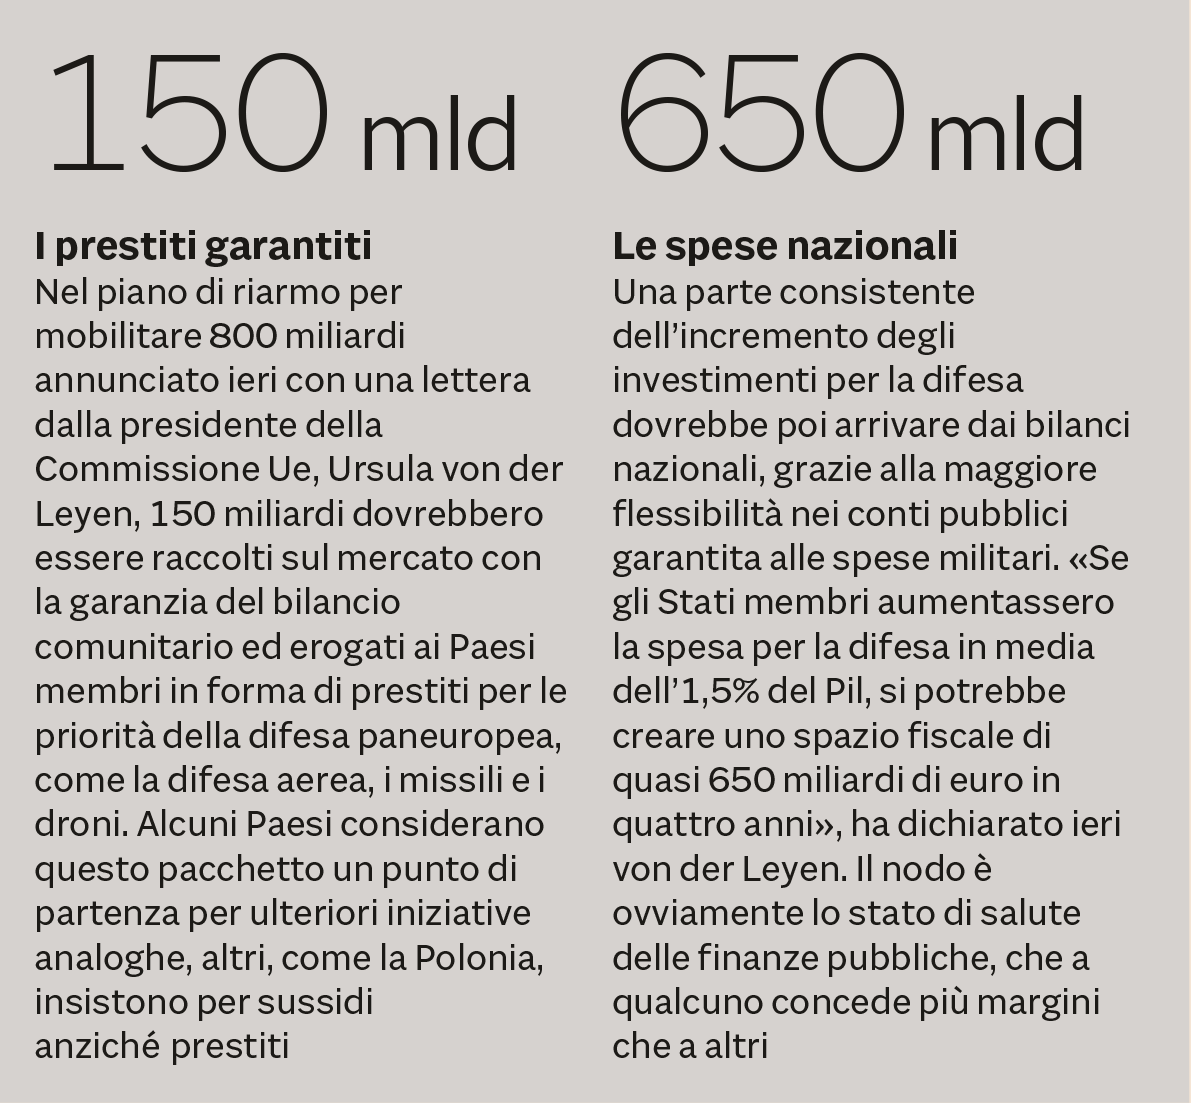scheda-numerone-1: (5, 8, 585, 1081), (589, 8, 1169, 1081)
